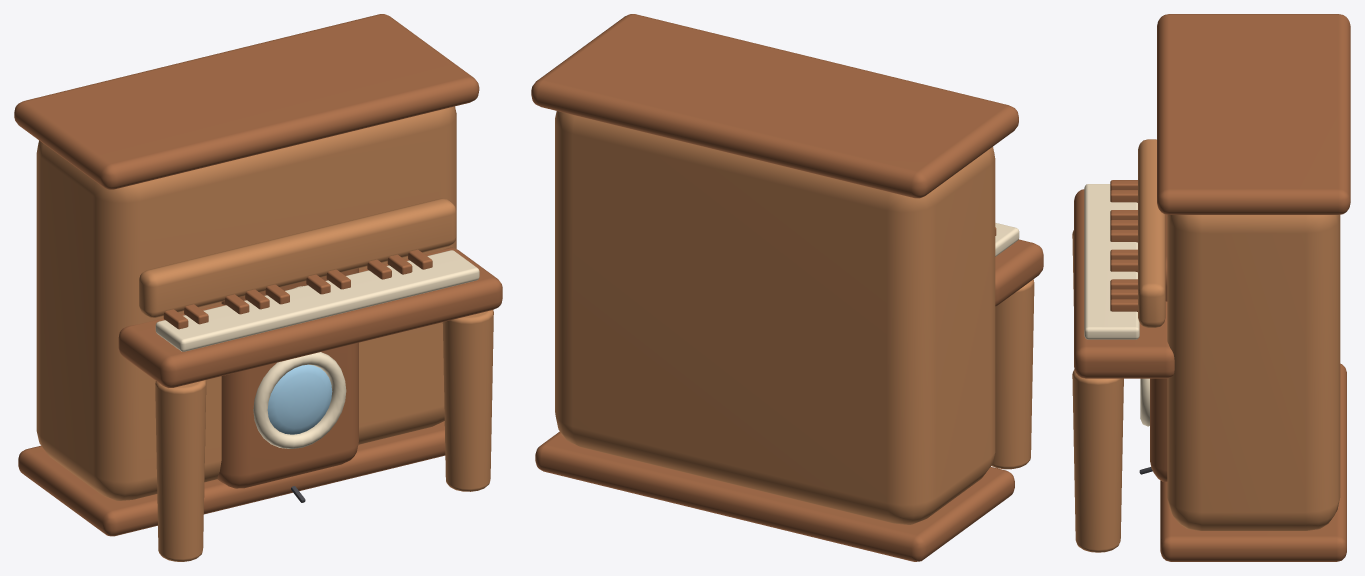
Rendered from interest_music_v3_8.glb.
The picture shows the model from 3 angles, left to right: view 1: azimuth 30°, elevation 25°; view 2: azimuth 150°, elevation 25°; view 3: azimuth 270°, elevation 25°; orthographic projection. The views are drawn at different scales.
Visible parts, largest first — view 1: piano_body, piano_lid, piano, piano_fallboard, piano_key_bed, piano_plinth, speaker_cabinet, piano_keys_white, speaker_driver_02_ring, speaker_driver_02_cone, piano_keys_black; view 2: piano_body, piano_lid, piano_plinth, piano, piano_key_bed; view 3: piano_body, piano_lid, piano, piano_plinth, piano_key_bed, piano_keys_white, piano_fallboard, piano_keys_black, speaker_cabinet, speaker_driver_02_ring.
Part boxes in pixels (x1,y1,x2,y2): piano_body: [36, 106, 456, 500]; piano_lid: [14, 14, 479, 189]; piano: [155, 310, 493, 561]; piano_fallboard: [139, 198, 456, 317]; piano_key_bed: [118, 247, 502, 387]; piano_plinth: [18, 421, 445, 536]; speaker_cabinet: [217, 268, 358, 488]; piano_keys_white: [155, 250, 479, 351]; speaker_driver_02_ring: [253, 352, 346, 448]; speaker_driver_02_cone: [267, 364, 332, 434]; piano_keys_black: [163, 249, 432, 329]; piano_body: [555, 111, 995, 524]; piano_lid: [531, 14, 1018, 198]; piano_plinth: [535, 431, 1014, 561]; piano: [991, 279, 1034, 469]; piano_key_bed: [995, 239, 1043, 306]; piano_body: [1167, 215, 1340, 530]; piano_lid: [1157, 14, 1350, 214]; piano: [1072, 230, 1123, 552]; piano_plinth: [1160, 363, 1346, 561]; piano_key_bed: [1074, 189, 1174, 378]; piano_keys_white: [1084, 184, 1139, 339]; piano_fallboard: [1138, 139, 1165, 327]; piano_keys_black: [1110, 180, 1137, 311]; speaker_cabinet: [1150, 214, 1167, 481]; speaker_driver_02_ring: [1140, 378, 1149, 426].
Size of the model in its own units: 1.25 by 1.18 by 0.7967.
